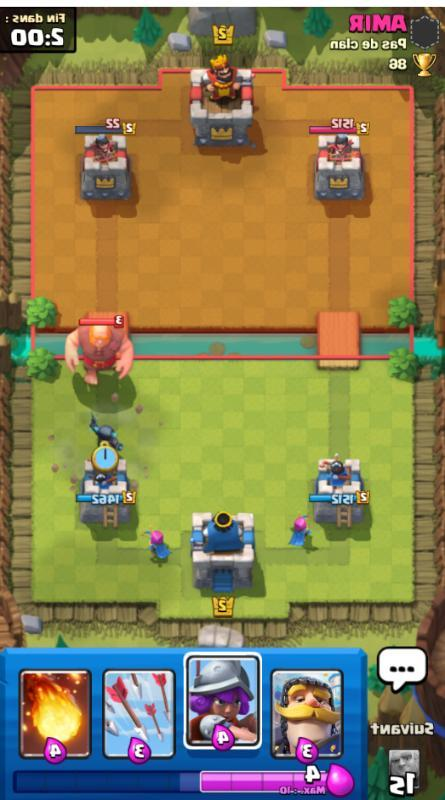enemy_giant: (61, 313, 138, 390)
player_archers: (283, 507, 317, 550), (140, 521, 174, 564)
player_mini_pekka: (84, 409, 125, 455)
